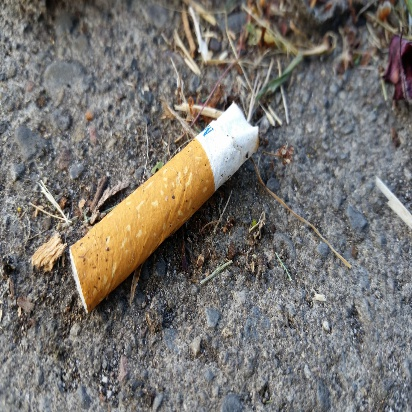cigarette: (59, 96, 263, 328)
